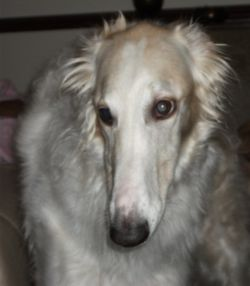borzoi: (27, 15, 240, 277)
